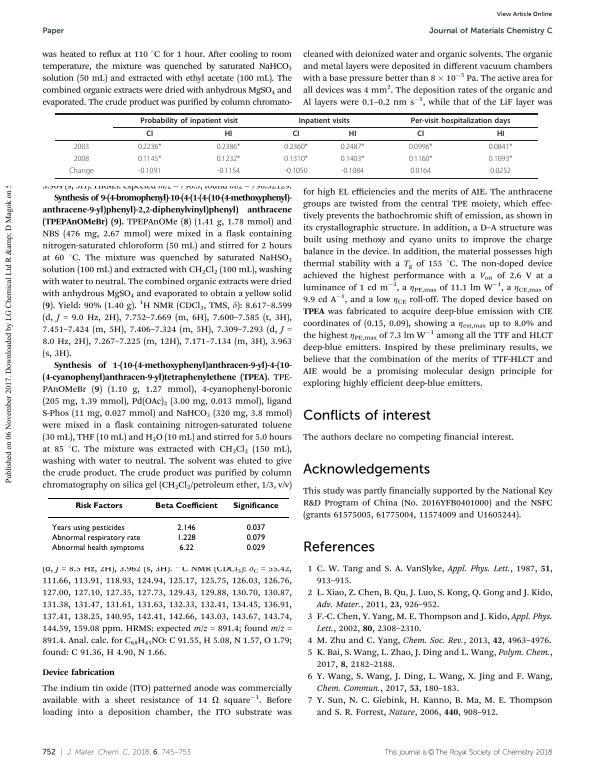borderless: (55, 112, 538, 178), (46, 496, 290, 561)
cell: (51, 543, 145, 553), (410, 116, 511, 125), (51, 533, 141, 543), (139, 116, 239, 125), (51, 523, 125, 532), (154, 501, 218, 510), (298, 116, 351, 125), (74, 501, 123, 510), (232, 501, 279, 510), (68, 166, 95, 176), (283, 142, 309, 152), (283, 154, 309, 164), (137, 142, 162, 152), (216, 142, 241, 152), (340, 142, 365, 152), (408, 142, 433, 152), (488, 142, 513, 152), (137, 154, 162, 164), (216, 154, 241, 164), (340, 154, 365, 164), (408, 154, 433, 164), (488, 154, 513, 164), (137, 166, 162, 176), (216, 166, 241, 176), (340, 166, 365, 176), (284, 166, 308, 176), (409, 166, 432, 176), (489, 166, 512, 176), (245, 533, 266, 543), (245, 543, 266, 553), (176, 533, 196, 543), (245, 523, 266, 532), (176, 523, 196, 532), (73, 142, 90, 152), (73, 154, 90, 164), (178, 543, 194, 553), (145, 129, 154, 139), (224, 129, 233, 139), (348, 129, 357, 139), (416, 129, 425, 139), (496, 129, 505, 139), (292, 129, 300, 139)
